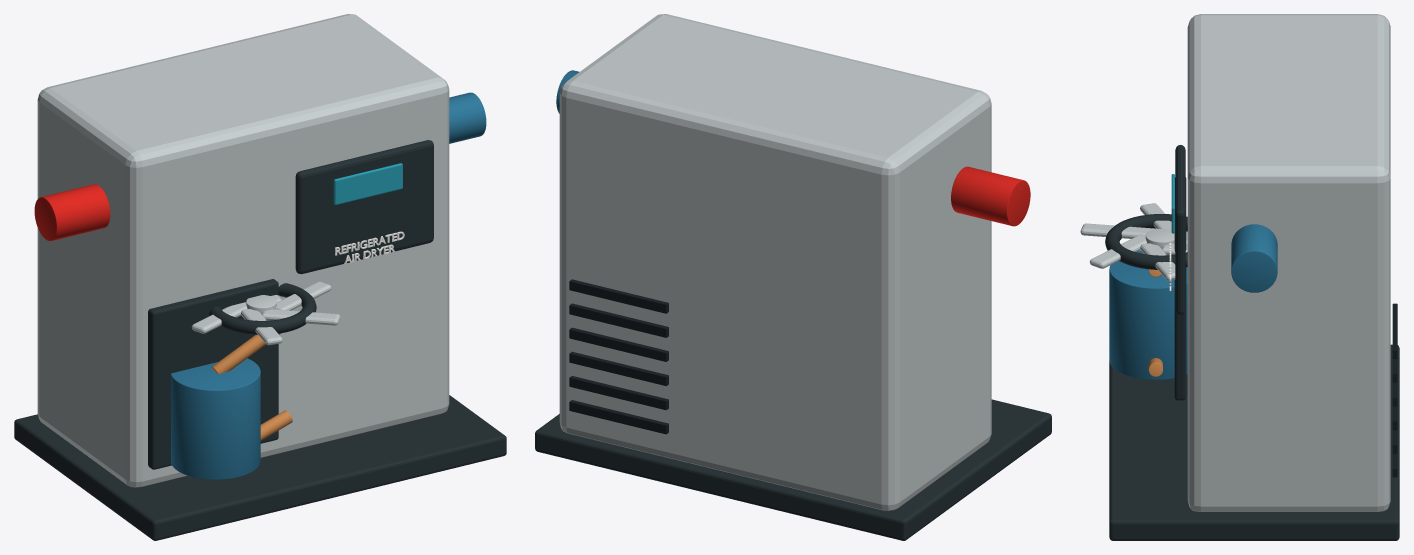
File: refrigerated_air_dryer.glb
3 views of the same model, side by side, from view 1: azimuth 30°, elevation 25°; view 2: azimuth 150°, elevation 25°; view 3: azimuth 270°, elevation 25° (orthographic). The views are drawn at different scales.
Visible parts, largest first — view 1: DRYER_CABINET, BASE, CONTROL_PANEL, SERVICE_BAY, HERMETIC_COMPRESSOR, WET_AIR_IN, DISPLAY, KIN_DRYER_CONDENSER_FAN_RING, DRY_AIR_OUT, DRYER_LABEL, REFRIGERANT_LINE_A, KIN_DRYER_CONDENSER_FAN_BLADE_5 (+3 smaller); view 2: DRYER_CABINET, BASE, WET_AIR_IN, CONDENSER_GRILLE_0.38, CONDENSER_GRILLE_0.56, CONDENSER_GRILLE_0.47, CONDENSER_GRILLE_0.2, CONDENSER_GRILLE_0.29, CONDENSER_GRILLE_0.65; view 3: DRYER_CABINET, BASE, HERMETIC_COMPRESSOR, DRY_AIR_OUT, CONTROL_PANEL, KIN_DRYER_CONDENSER_FAN_RING, SERVICE_BAY, KIN_DRYER_CONDENSER_FAN_BLADE_5, KIN_DRYER_CONDENSER_FAN_BLADE_4, KIN_DRYER_CONDENSER_FAN_BLADE_0, KIN_DRYER_CONDENSER_FAN_HUB.
Part boxes in pixels (x1,y1,x2,y2): DRYER_CABINET: (37, 14, 449, 487); BASE: (14, 395, 506, 540); CONTROL_PANEL: (295, 140, 433, 274); SERVICE_BAY: (148, 279, 278, 469); HERMETIC_COMPRESSOR: (171, 358, 260, 479); WET_AIR_IN: (34, 184, 110, 240); DISPLAY: (333, 163, 402, 204); KIN_DRYER_CONDENSER_FAN_RING: (209, 283, 316, 334); DRY_AIR_OUT: (449, 92, 486, 143); DRYER_LABEL: (335, 231, 404, 263); REFRIGERANT_LINE_A: (211, 333, 280, 373); KIN_DRYER_CONDENSER_FAN_BLADE_5: (261, 309, 340, 325); DRYER_CABINET: (559, 14, 991, 510); BASE: (535, 399, 1051, 540); WET_AIR_IN: (951, 166, 1030, 226); CONDENSER_GRILLE_0.38: (569, 351, 668, 386); CONDENSER_GRILLE_0.56: (569, 303, 668, 337); CONDENSER_GRILLE_0.47: (569, 327, 668, 361); CONDENSER_GRILLE_0.2: (569, 400, 668, 434); CONDENSER_GRILLE_0.29: (569, 376, 668, 410); CONDENSER_GRILLE_0.65: (569, 279, 668, 313); DRYER_CABINET: (1187, 14, 1390, 511); BASE: (1109, 344, 1399, 540); HERMETIC_COMPRESSOR: (1109, 250, 1187, 379); DRY_AIR_OUT: (1231, 224, 1277, 292); CONTROL_PANEL: (1175, 145, 1185, 314); KIN_DRYER_CONDENSER_FAN_RING: (1105, 214, 1187, 269); SERVICE_BAY: (1174, 177, 1186, 400); KIN_DRYER_CONDENSER_FAN_BLADE_5: (1090, 234, 1146, 268); KIN_DRYER_CONDENSER_FAN_BLADE_4: (1080, 223, 1158, 238); KIN_DRYER_CONDENSER_FAN_BLADE_0: (1140, 243, 1175, 280); KIN_DRYER_CONDENSER_FAN_HUB: (1145, 229, 1174, 248).
Bounding box in the file's own units: 1.76 × 1.38 × 1.1.
